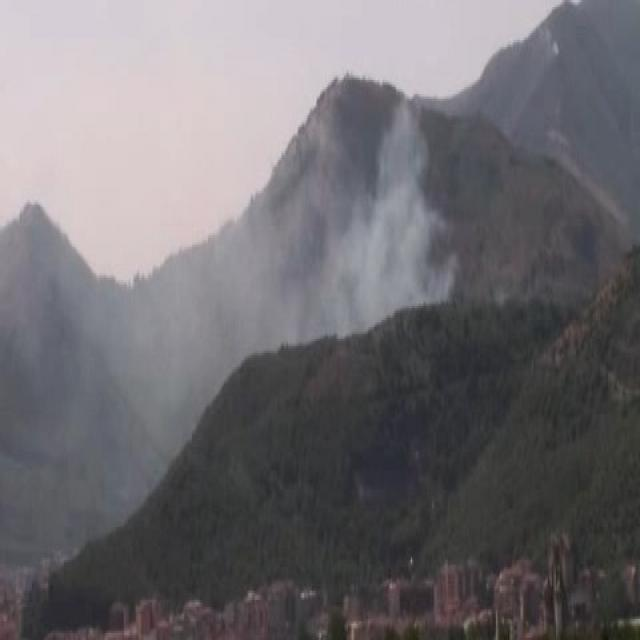smoke: (290, 93, 450, 335), (81, 256, 233, 440), (204, 273, 205, 275)
